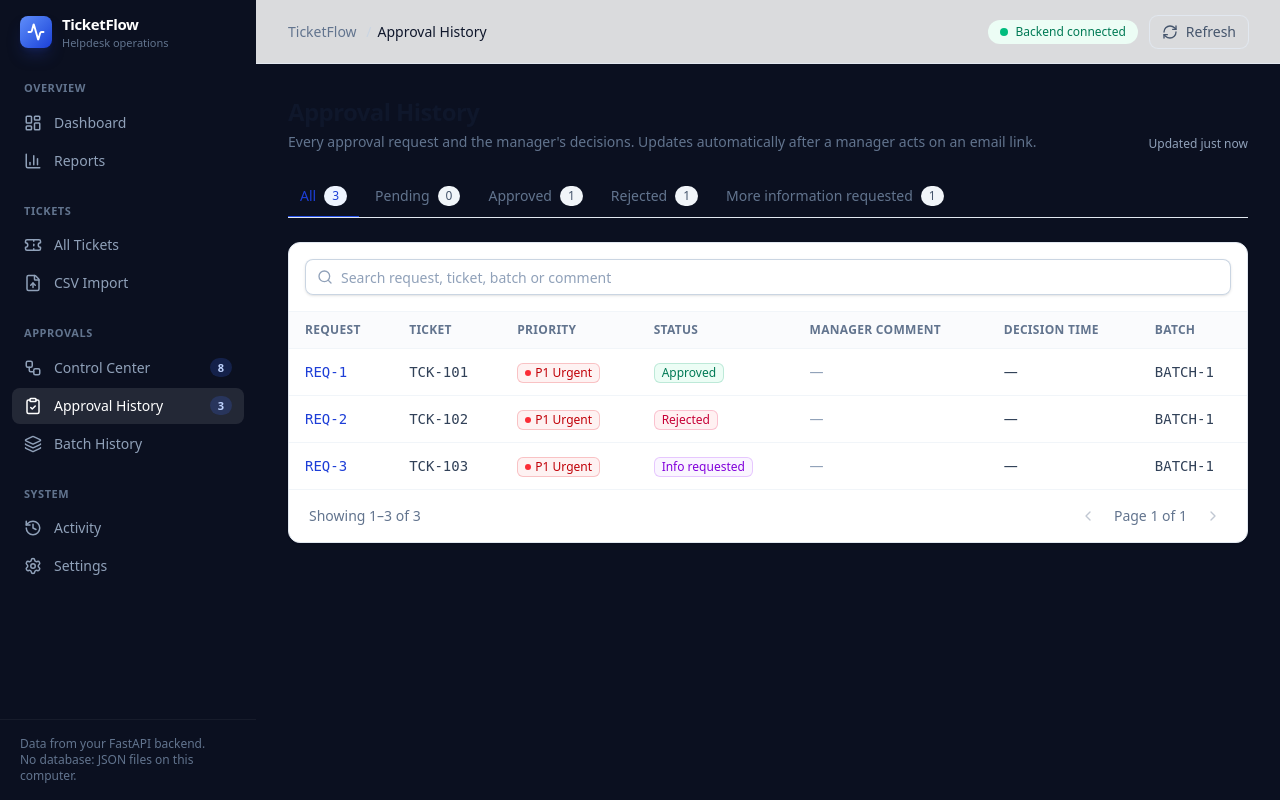
Test case: Employee notifications in Approval History › shows sent, skipped (with reason) and failed notices with masked addresses only
Step 1. Click the button "REQ-1" → (326, 372), box [305, 362, 347, 382]
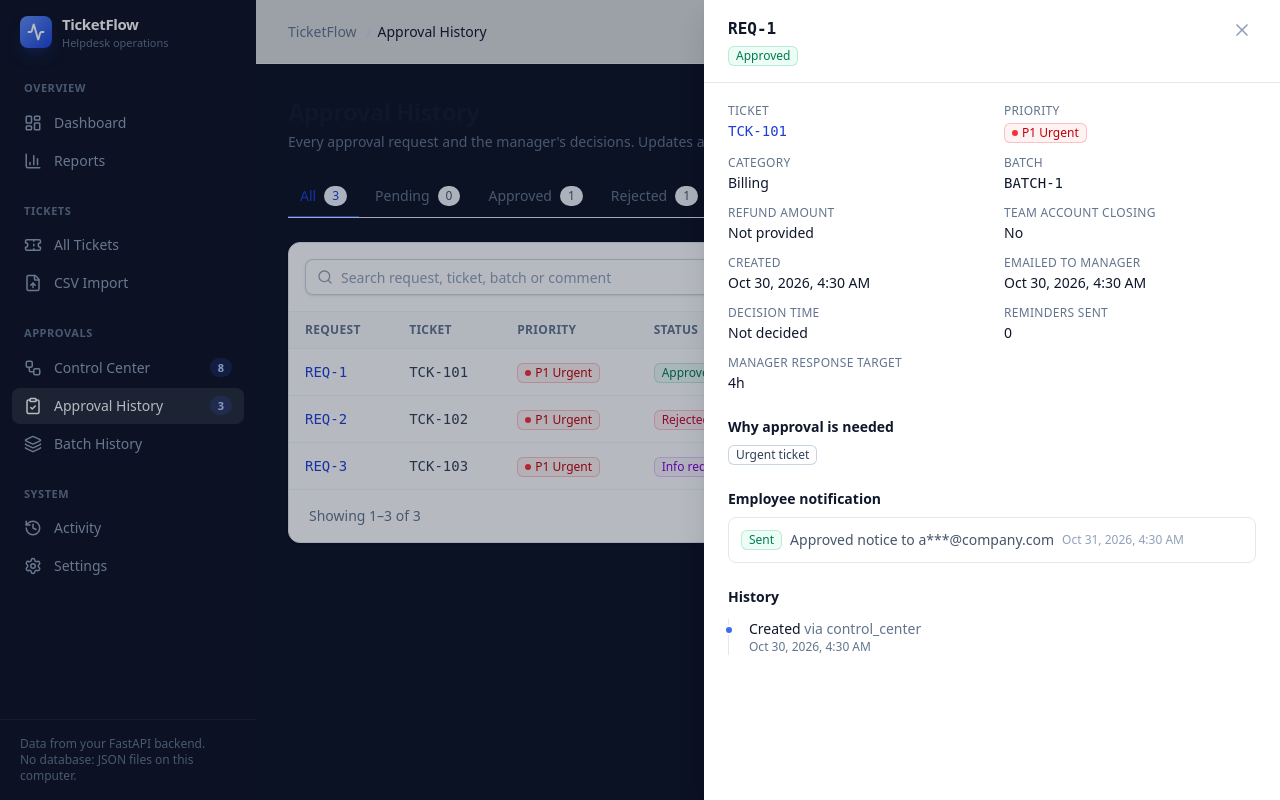
Expected: the text "Sent" is shown, [741, 530, 782, 550]
Expected: the text "Approved notice to a***@company.com" is shown, [790, 530, 1054, 550]
Step 2. Click the button named "Close" → (1242, 30), box [1228, 16, 1256, 44]
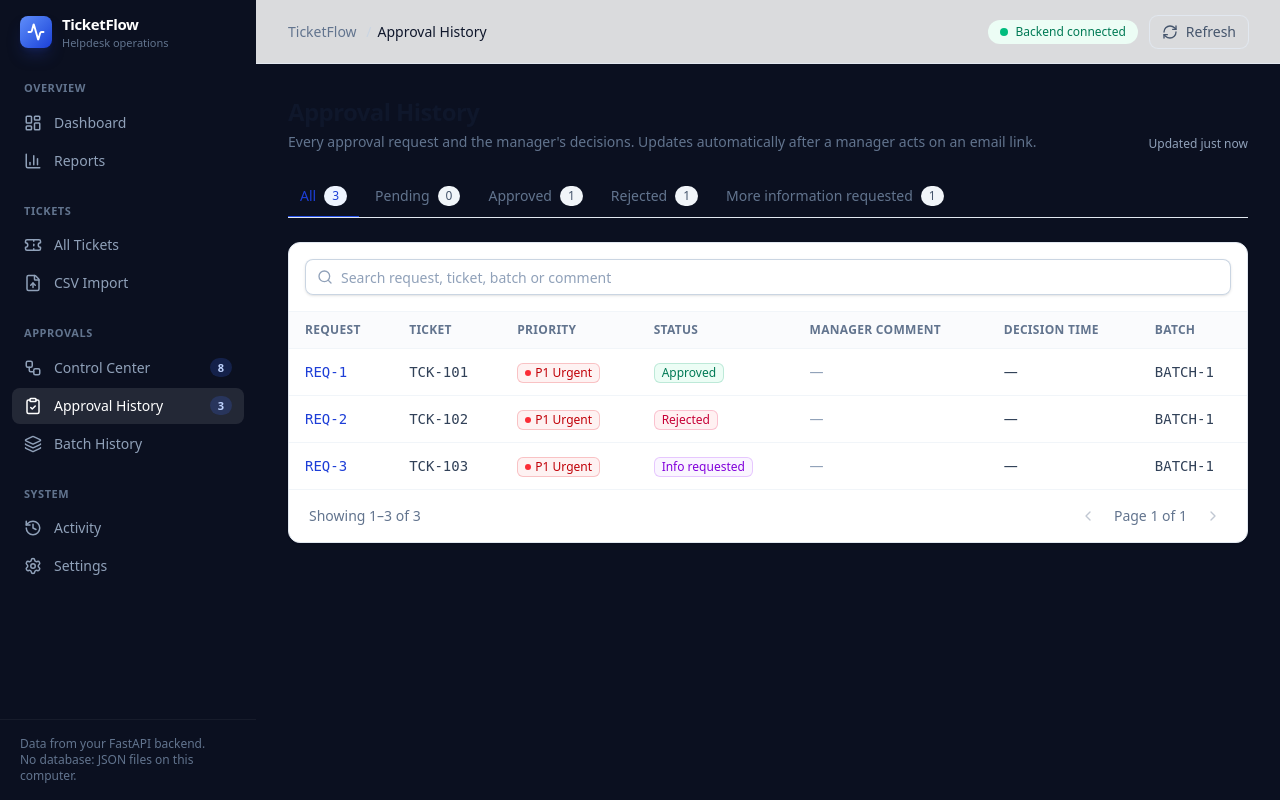
Step 3. Click the button "REQ-2" → (326, 419), box [305, 409, 347, 429]
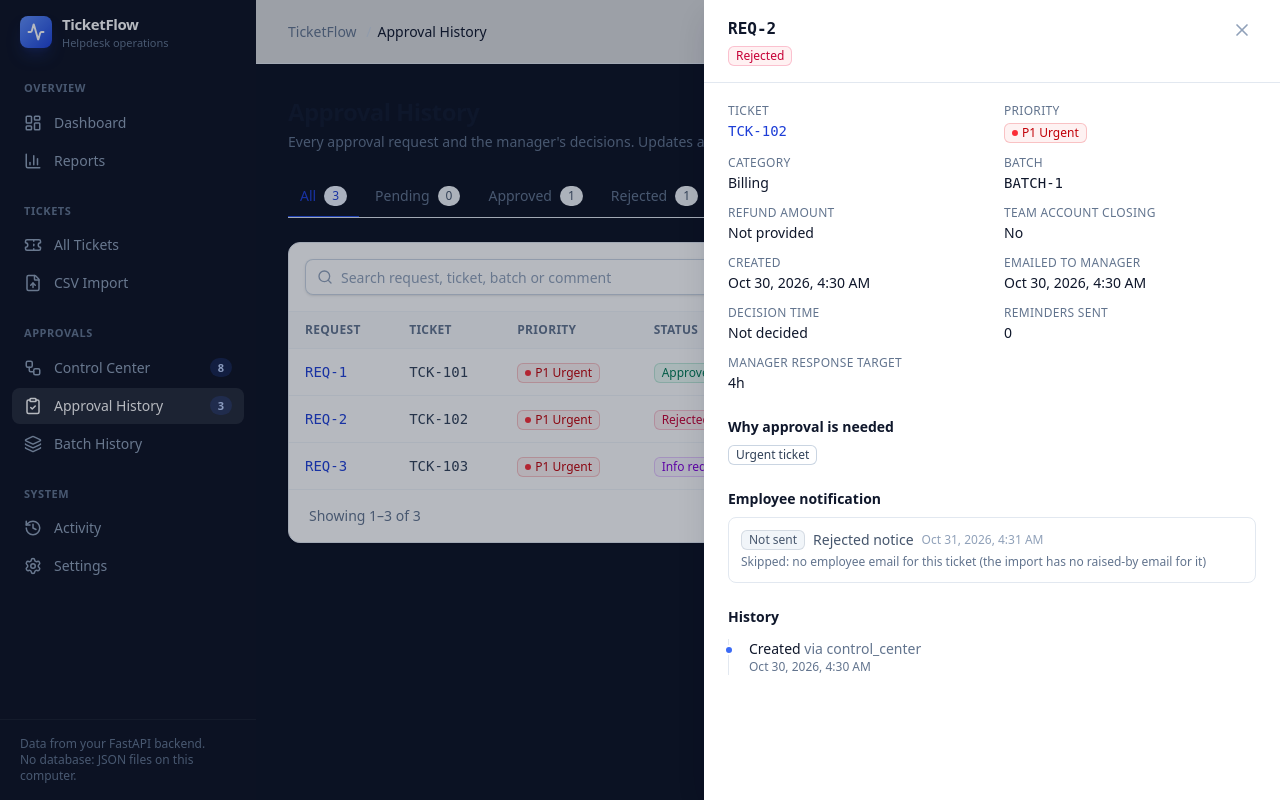
Expected: the text "Not sent" is shown, [741, 530, 805, 550]
Expected: the text "Skipped: no employee email for this ticket" is shown, [741, 554, 1243, 570]
Step 4. Click the button named "Close" → (1242, 30), box [1228, 16, 1256, 44]
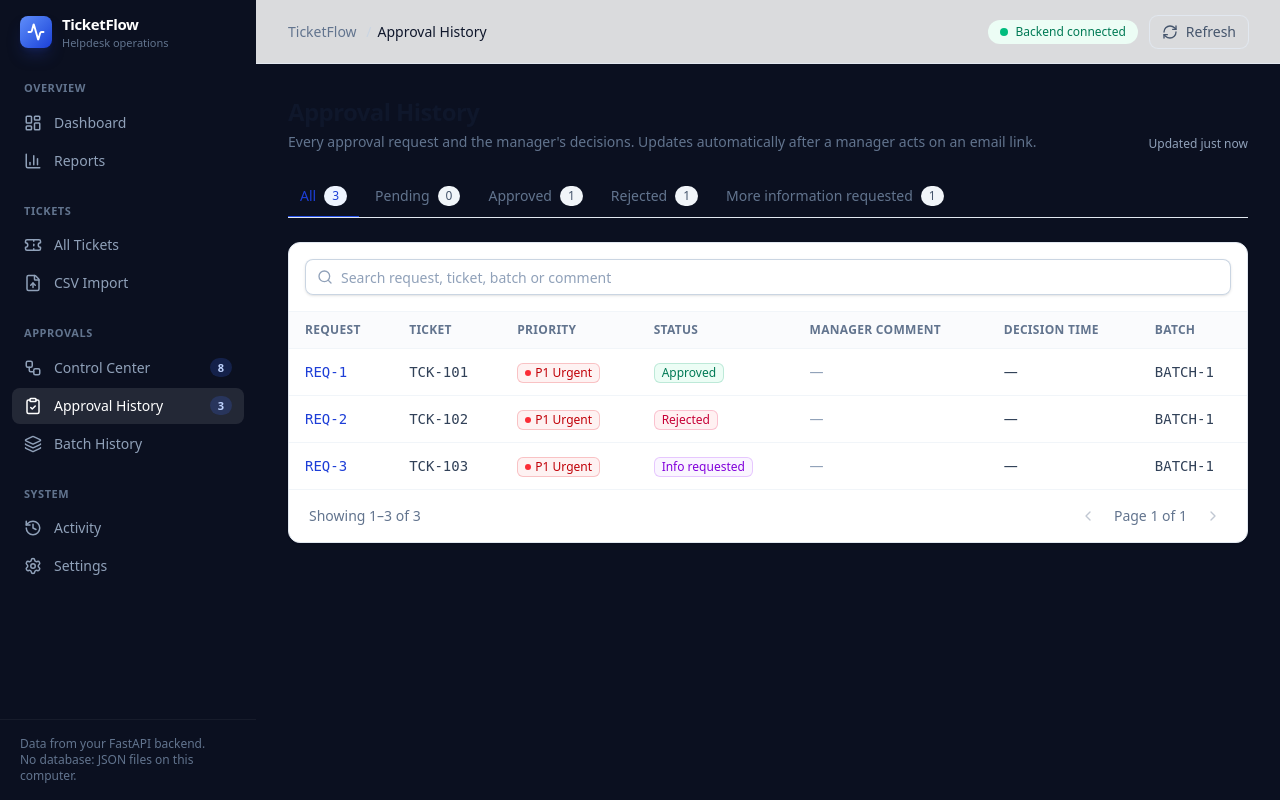
Step 5. Click the button "REQ-3" → (326, 466), box [305, 456, 347, 476]
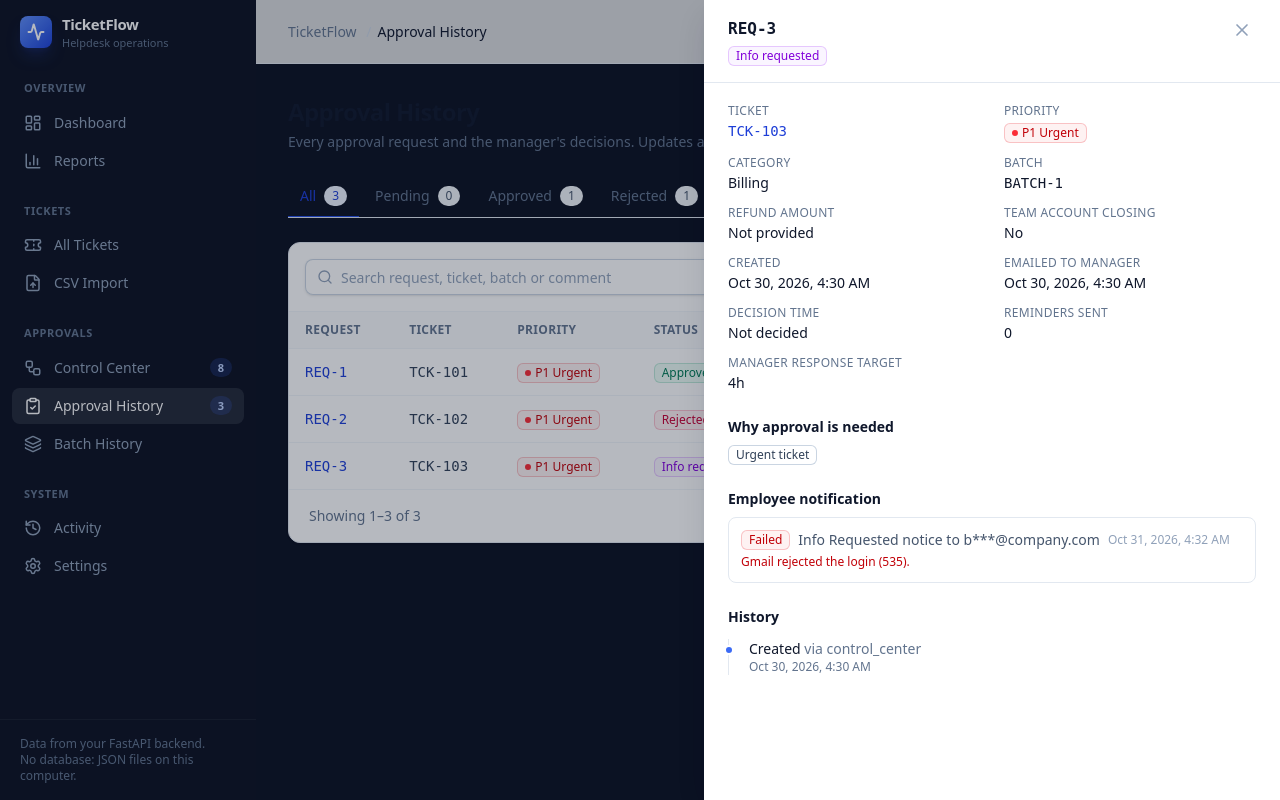
Expected: the text "Failed" is shown, [741, 530, 790, 550]
Expected: the text "Gmail rejected the login (535)." is shown, [741, 553, 910, 570]
